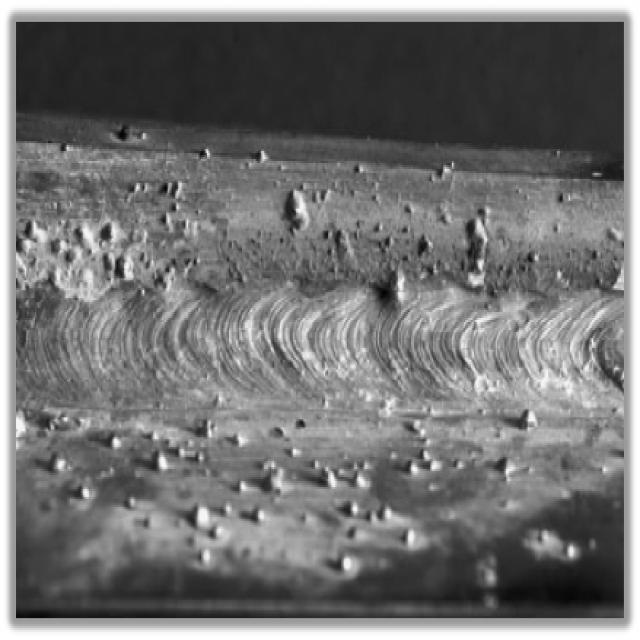Good Welding: (19, 260, 630, 426)
Spatters: (257, 455, 371, 525), (44, 439, 89, 499), (382, 258, 413, 315), (459, 210, 496, 251), (289, 186, 315, 241), (402, 441, 443, 471), (96, 214, 120, 250), (189, 498, 211, 535), (398, 523, 420, 544), (342, 555, 357, 578), (28, 219, 42, 240), (502, 463, 516, 482)
